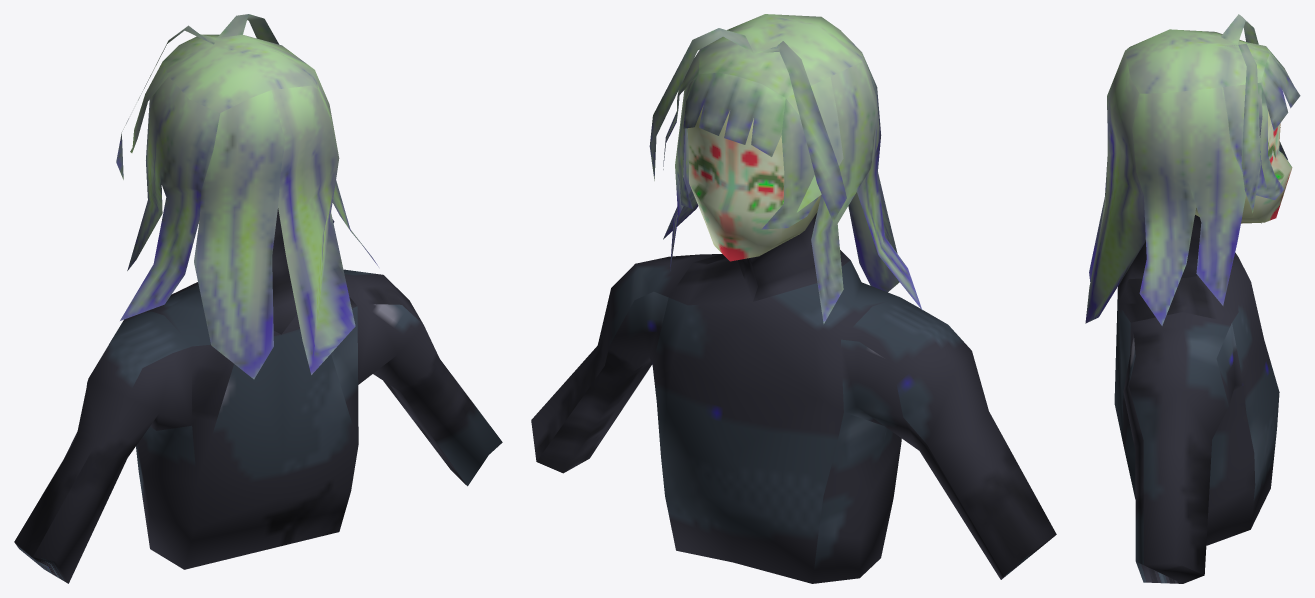
Rendered from imago.obj.
The picture shows the model from 3 angles, left to right: view 1: azimuth 30°, elevation 25°; view 2: azimuth 150°, elevation 25°; view 3: azimuth 270°, elevation 25°; orthographic projection. The views are drawn at different scales.
Parts seen in each view (by area): view 1: MC, hair; view 2: MC, hair; view 3: MC, hair.
Part boxes in pixels (x1,y1,x2,y2): MC: (14,208,502,583); hair: (116,14,378,379); MC: (531,105,1056,583); hair: (649,14,922,323); MC: (1114,111,1292,583); hair: (1085,14,1300,325).
Size of the model in its own units: 0.4907 by 0.4953 by 0.2009.
Materials: 3 (3 with a texture image).
